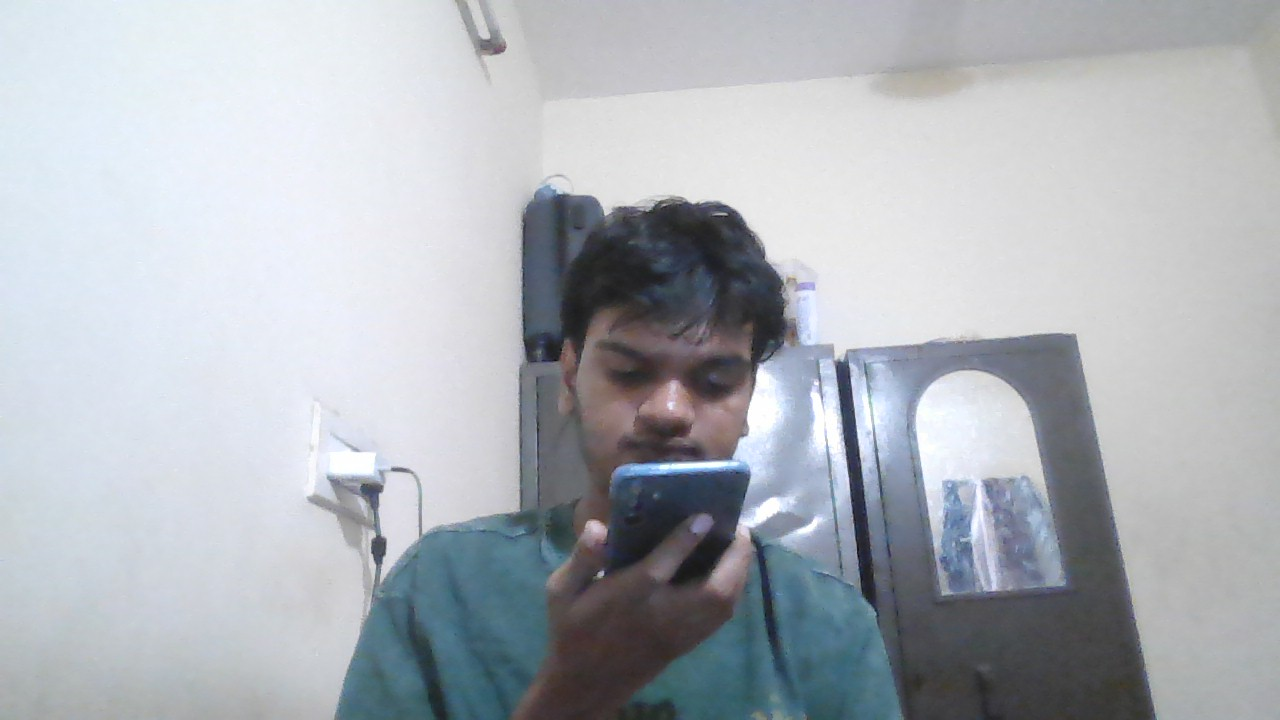phone: (607, 459, 752, 533)
